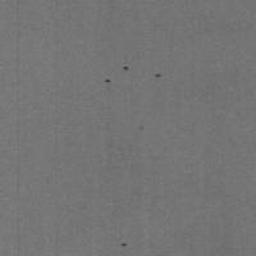Inclusion: (122, 64, 132, 72), (154, 72, 164, 79), (120, 241, 129, 248), (104, 77, 111, 84)
